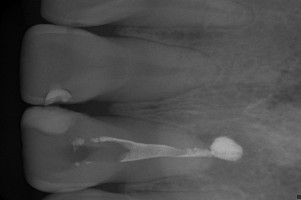Furcation Involvement: (195, 122, 260, 183)
